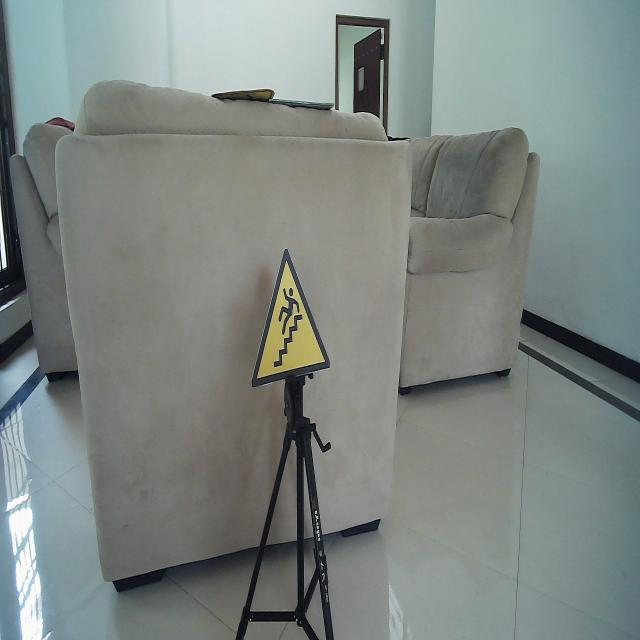stairs: (250, 246, 331, 390)
